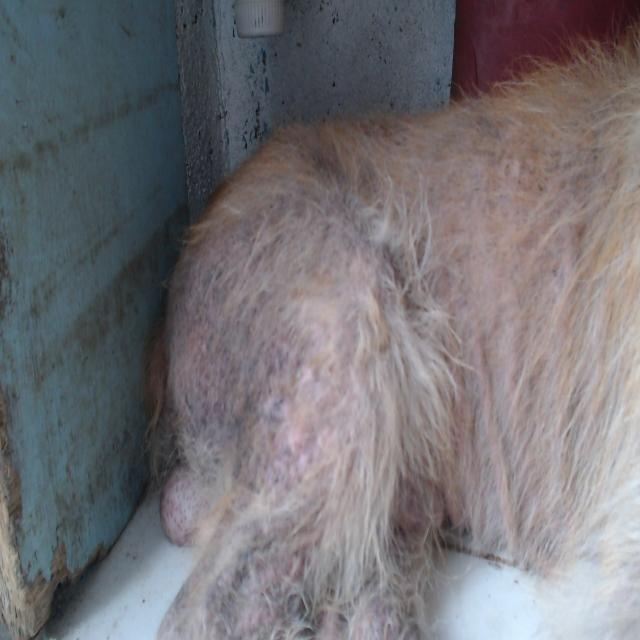demodicosis: (188, 242, 318, 437), (221, 464, 352, 623)
